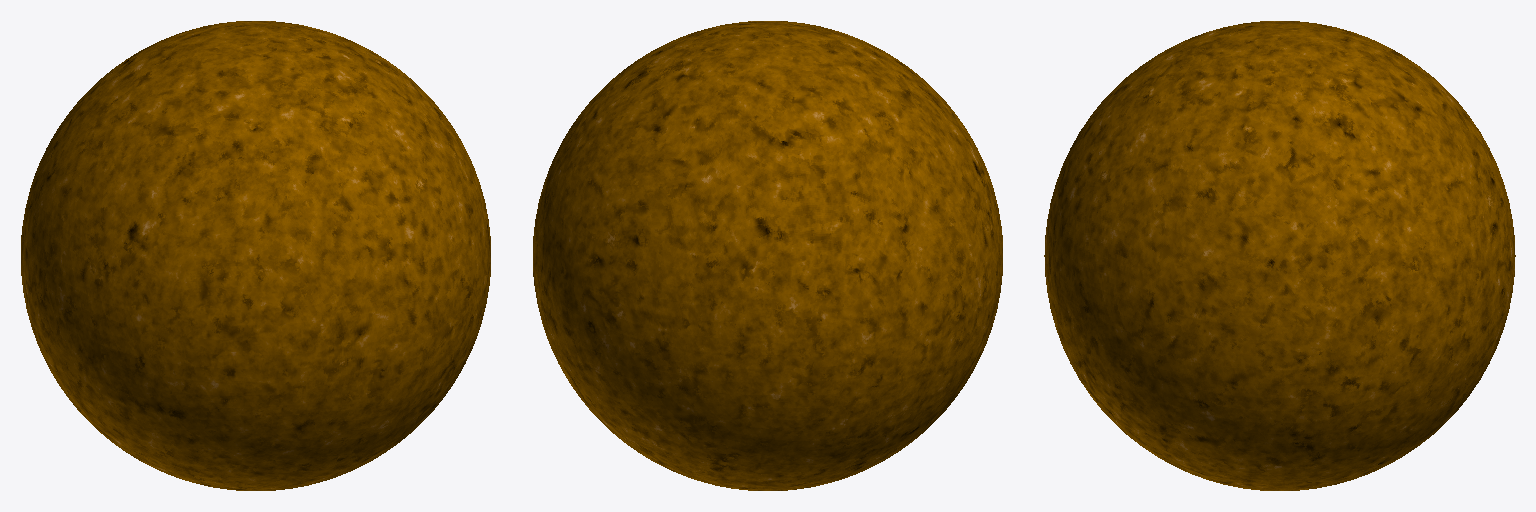
3 renders of one model, left to right at view 1: azimuth 30°, elevation 25°; view 2: azimuth 150°, elevation 25°; view 3: azimuth 270°, elevation 25°, orthographic.
Parts seen in each view (by area): view 1: Orion_Icosphere.006; view 2: Orion_Icosphere.006; view 3: Orion_Icosphere.006.
Boxes of the visible parts, box(x1,y1,x2,y2) form: Orion_Icosphere.006: box(21, 21, 490, 490); Orion_Icosphere.006: box(533, 21, 1002, 490); Orion_Icosphere.006: box(1044, 21, 1515, 490).
Size of the model in its own units: 21 by 21 by 21.
1 materials, 1 textured.